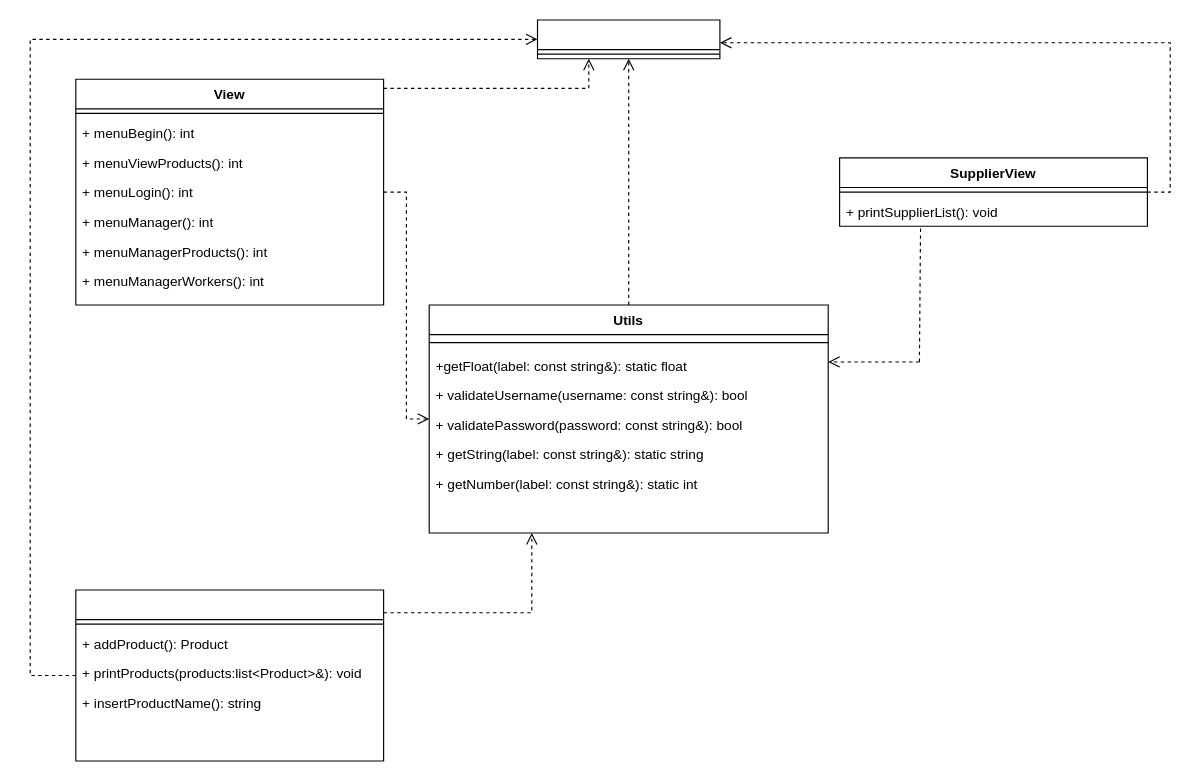
This 1202x781 diagram has some shape labels left out. Each missing label, with the box of its shape:
InvalidDataException: (536, 19, 720, 59)
ProductView: (75, 589, 384, 761)
